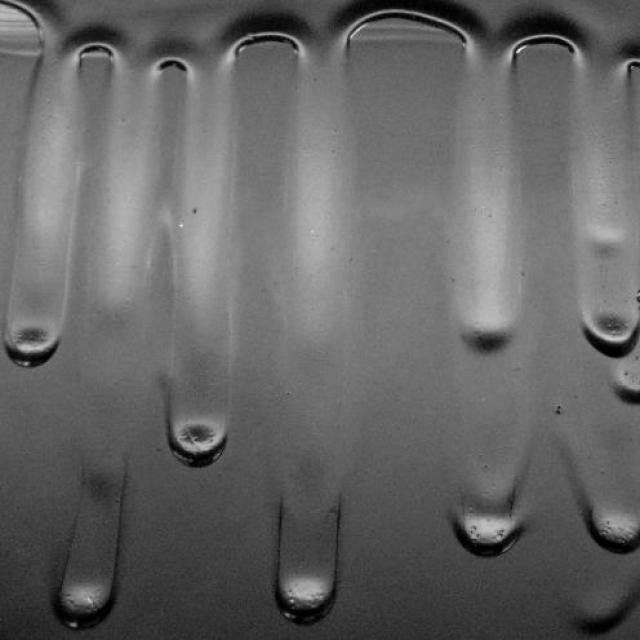paint drips: (0, 47, 640, 462), (16, 357, 637, 629)
